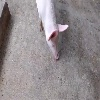heo: (40, 17, 71, 66)
